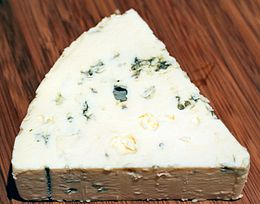cheese: (14, 11, 247, 198)
